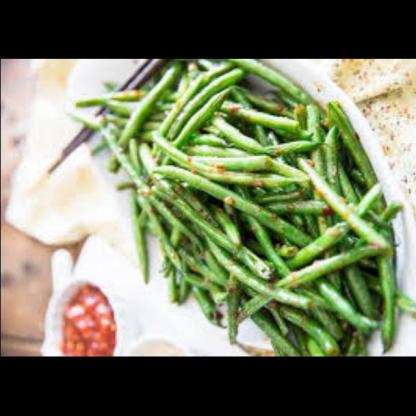fasol: (77, 63, 396, 343), (52, 282, 122, 357)
